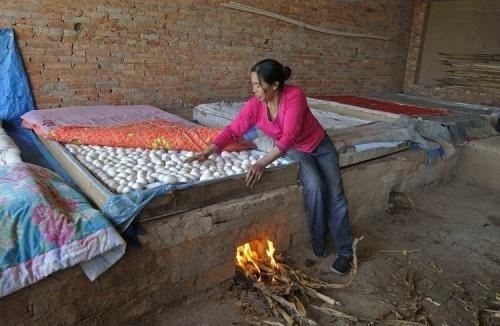fire: (234, 234, 282, 277)
